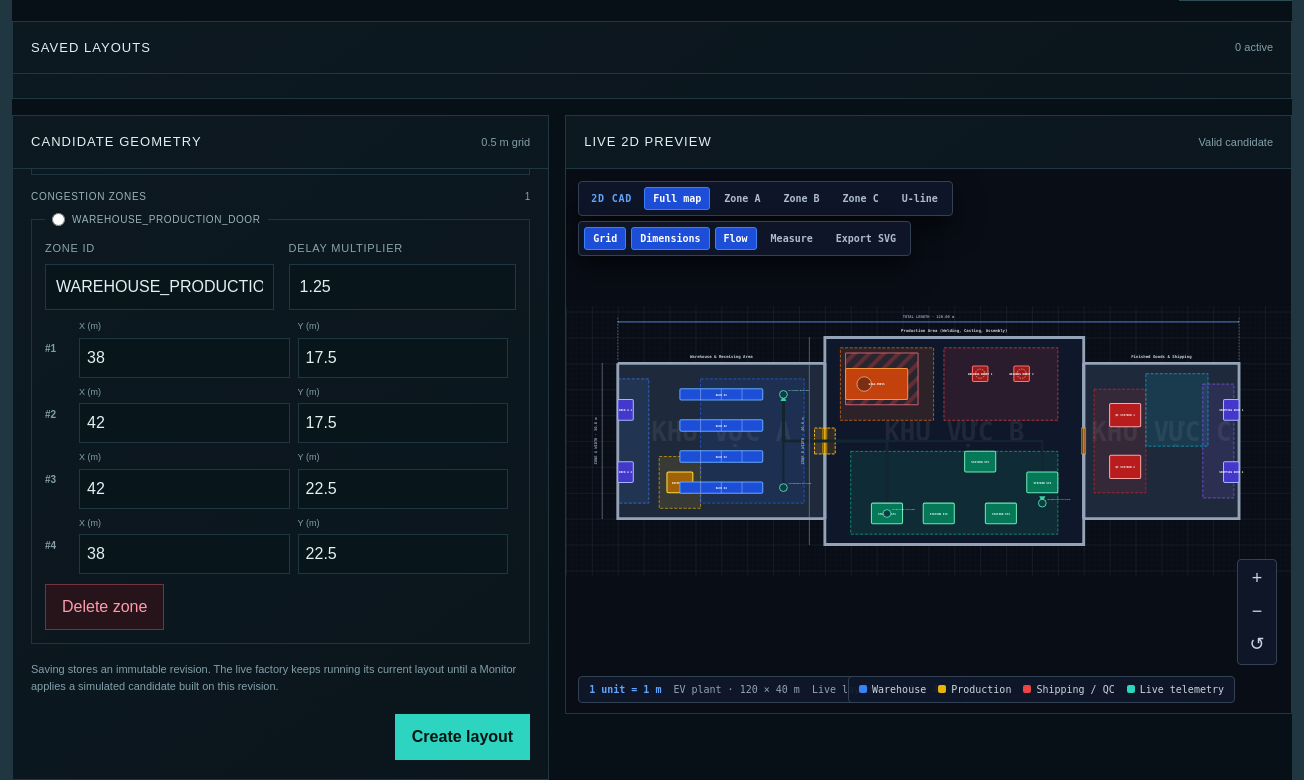
Test: LayoutsPage › says an unsimulated revision cannot be reviewed yet
(page scrolled)
Click the button "Create layout" at (462, 737), box [395,714,530,760]
(page scrolled)
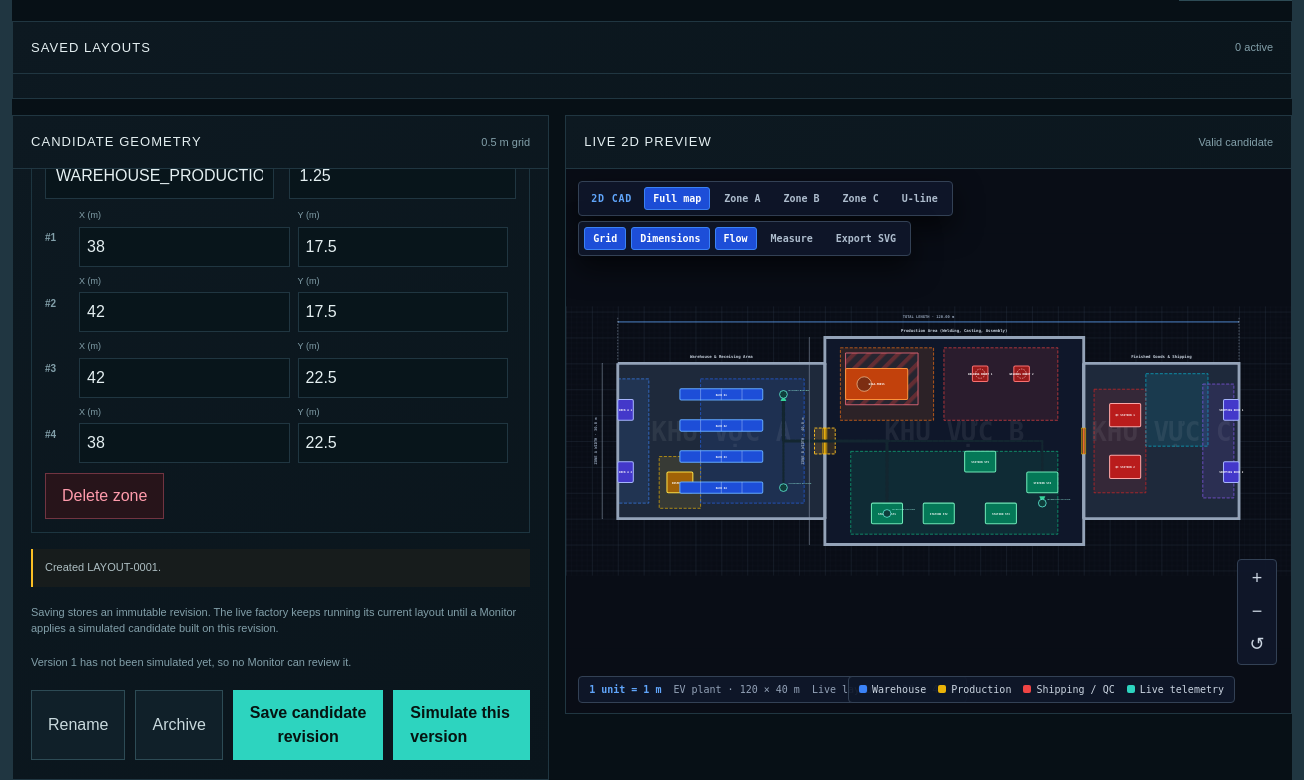
Expected: the text "has not been simulated yet" is shown, [77,656,351,668]
